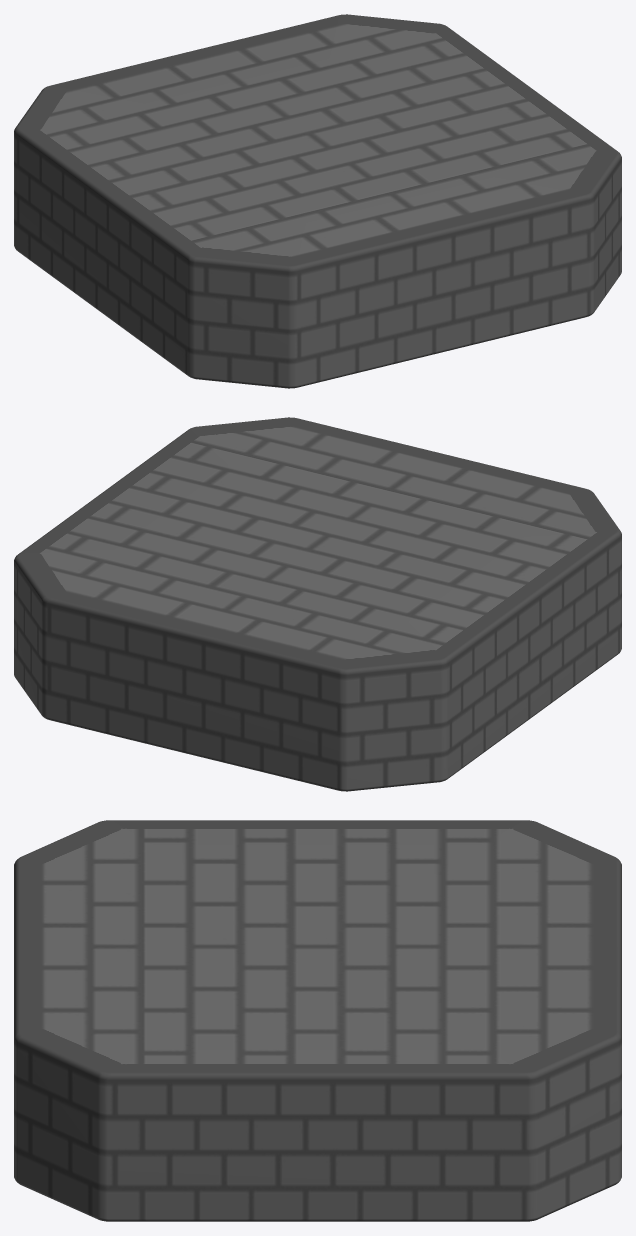
File: BrickOctagon.fbx
3 renders of one model, top to bottom at view 1: azimuth 30°, elevation 25°; view 2: azimuth 150°, elevation 25°; view 3: azimuth 270°, elevation 25°, orthographic. The views are drawn at different scales.
Visible parts, largest first — view 1: pCylinder2; view 2: pCylinder2; view 3: pCylinder2.
Boxes of the visible parts, x1=… form: pCylinder2: x1=14, y1=14, x2=621, y2=388; pCylinder2: x1=14, y1=417, x2=621, y2=791; pCylinder2: x1=14, y1=820, x2=621, y2=1221.
Bounding box in the file's own units: 1.85 × 0.5 × 1.85.
